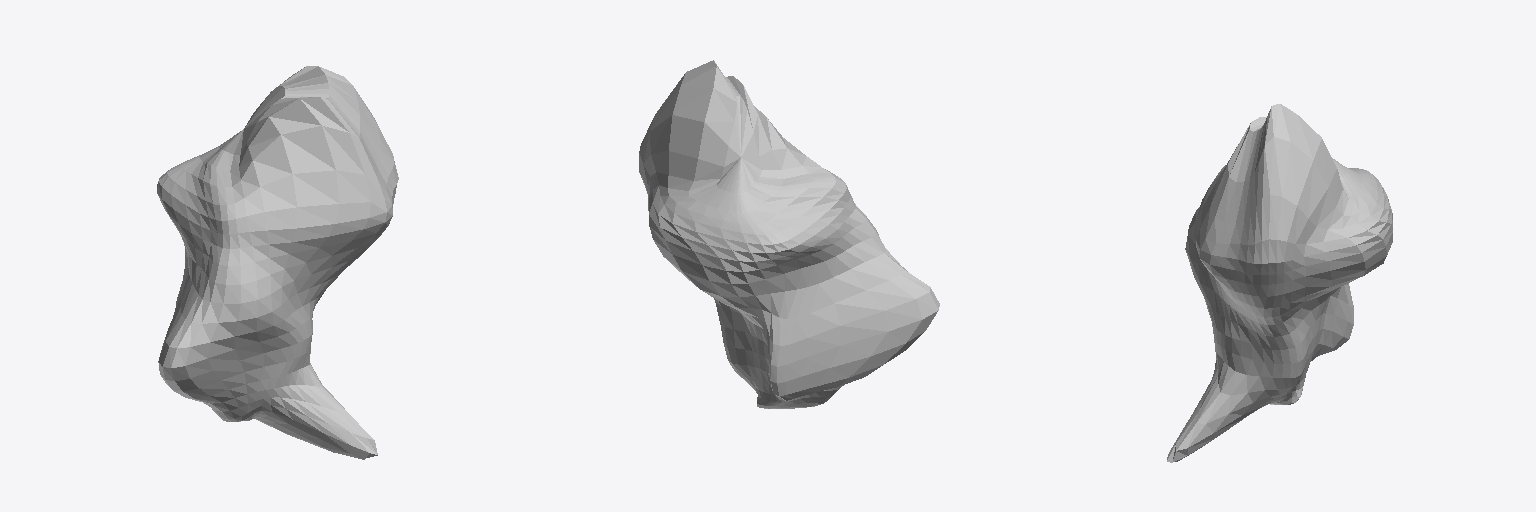
The model's file is blob2.obj.
3 renders of one model, left to right at view 1: azimuth 30°, elevation 25°; view 2: azimuth 150°, elevation 25°; view 3: azimuth 270°, elevation 25°, orthographic.
Parts seen in each view (by area): view 1: Capsule.1; view 2: Capsule.1; view 3: Capsule.1.
Boxes of the visible parts, <box> form: Capsule.1: <box>157,66,398,459</box>; Capsule.1: <box>639,60,939,408</box>; Capsule.1: <box>1167,104,1392,462</box>.
Size of the model in its own units: 705 by 910 by 524.